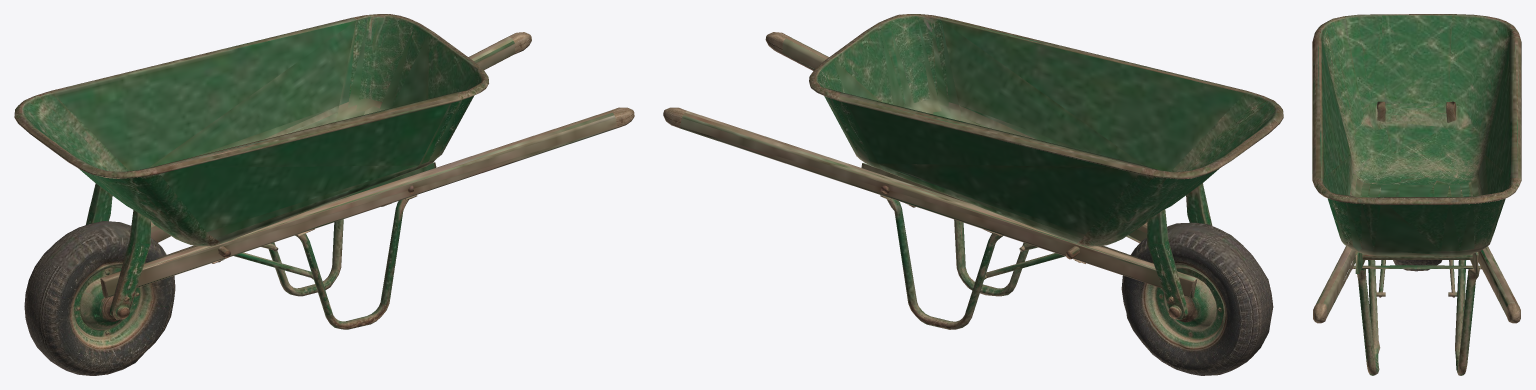
Rendered from skyways-d-gd-barrow.glb.
3 renders of one model, left to right at view 1: azimuth 30°, elevation 25°; view 2: azimuth 150°, elevation 25°; view 3: azimuth 270°, elevation 25°, orthographic. The views are drawn at different scales.
Parts seen in each view (by area): view 1: skyways-d-gd-barrow; view 2: skyways-d-gd-barrow; view 3: skyways-d-gd-barrow.
Part boxes in pixels (x1,y1,x2,y2): skyways-d-gd-barrow: (14,14,634,375); skyways-d-gd-barrow: (663,14,1283,375); skyways-d-gd-barrow: (1312,14,1521,375).
Bounding box in the file's own units: 1.5 × 0.626 × 0.5184.
1 material, 1 textured.
